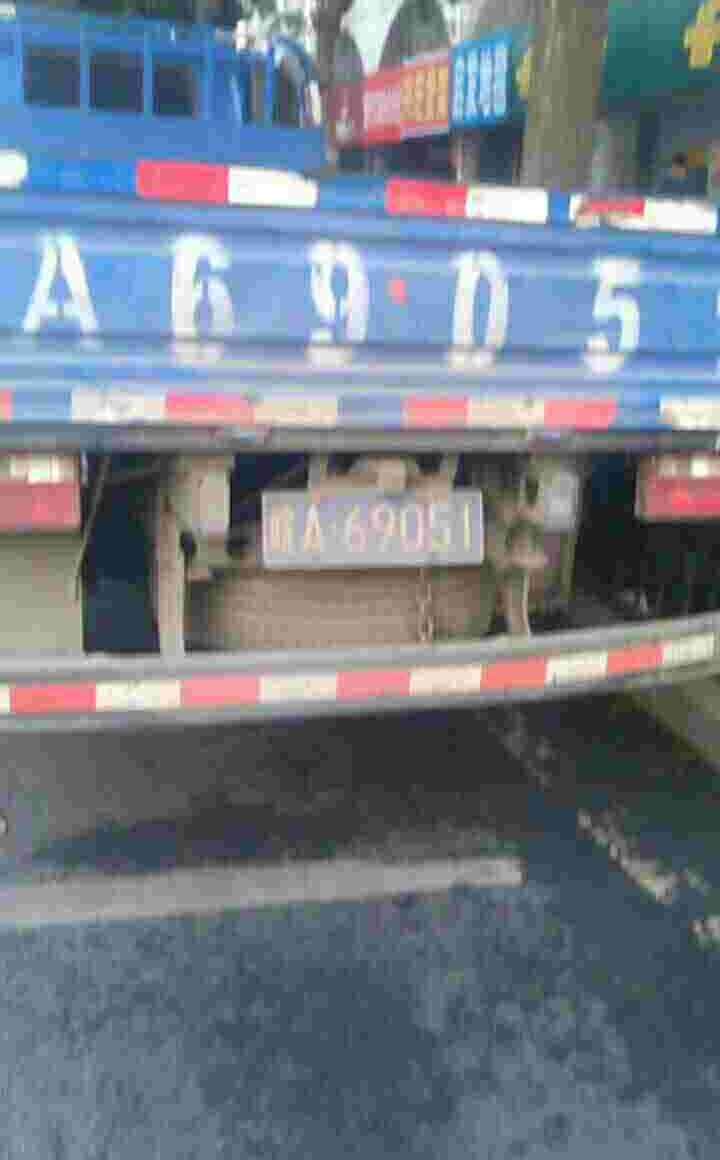plate: (261, 480, 493, 570)
